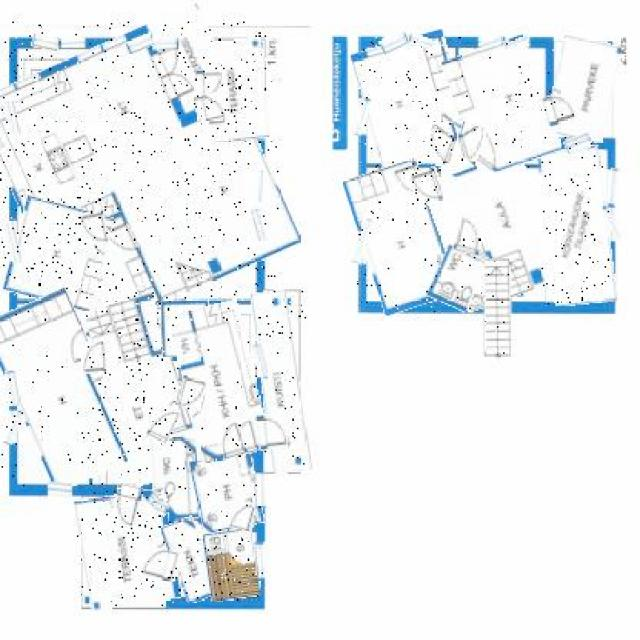door: (426, 122, 462, 164), (140, 548, 180, 580), (114, 483, 141, 528), (540, 92, 575, 125), (149, 405, 177, 446), (412, 168, 443, 205), (255, 416, 288, 450), (454, 218, 483, 256), (217, 422, 246, 458), (455, 125, 483, 162), (81, 212, 108, 245), (177, 378, 205, 409), (80, 343, 106, 374), (196, 94, 224, 121), (231, 500, 254, 531), (197, 70, 221, 96)
window: (356, 219, 370, 263), (6, 371, 22, 406), (382, 32, 409, 52), (126, 34, 156, 52), (356, 97, 370, 135), (6, 409, 20, 445), (8, 222, 20, 263), (252, 474, 266, 508), (255, 343, 268, 379), (563, 136, 592, 152), (8, 100, 20, 134), (606, 205, 617, 240), (254, 208, 266, 240), (48, 482, 72, 498), (154, 37, 181, 51), (32, 36, 58, 50), (256, 543, 266, 577), (409, 35, 434, 48), (480, 37, 503, 51), (609, 168, 617, 206), (505, 37, 529, 49), (60, 37, 85, 48), (257, 170, 265, 202), (154, 498, 168, 516)
zone: (0, 21, 278, 321), (0, 292, 120, 488), (432, 159, 556, 306), (97, 295, 192, 483), (358, 35, 468, 168), (354, 162, 449, 312), (449, 40, 554, 171), (177, 302, 263, 460), (78, 490, 177, 608), (542, 146, 612, 305), (9, 200, 108, 306), (258, 289, 308, 474), (549, 37, 617, 141), (203, 38, 268, 142), (194, 452, 261, 531), (166, 517, 214, 601), (206, 529, 259, 600), (152, 437, 198, 518), (431, 248, 483, 309), (162, 300, 209, 357), (484, 258, 510, 357), (438, 254, 480, 303)
